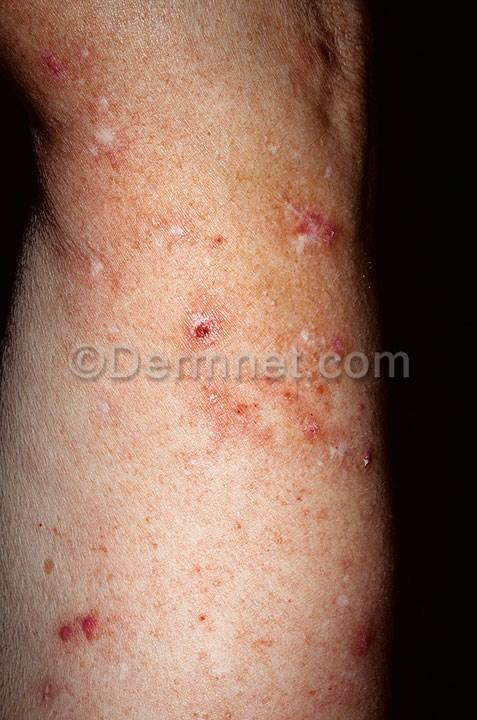Eczema: (190, 386, 384, 495), (303, 554, 384, 661), (270, 184, 360, 272), (74, 88, 146, 167), (275, 298, 362, 359), (44, 604, 123, 660), (66, 240, 131, 302), (136, 206, 205, 263), (176, 297, 237, 355), (247, 117, 300, 168), (30, 44, 91, 81), (81, 389, 131, 429)
